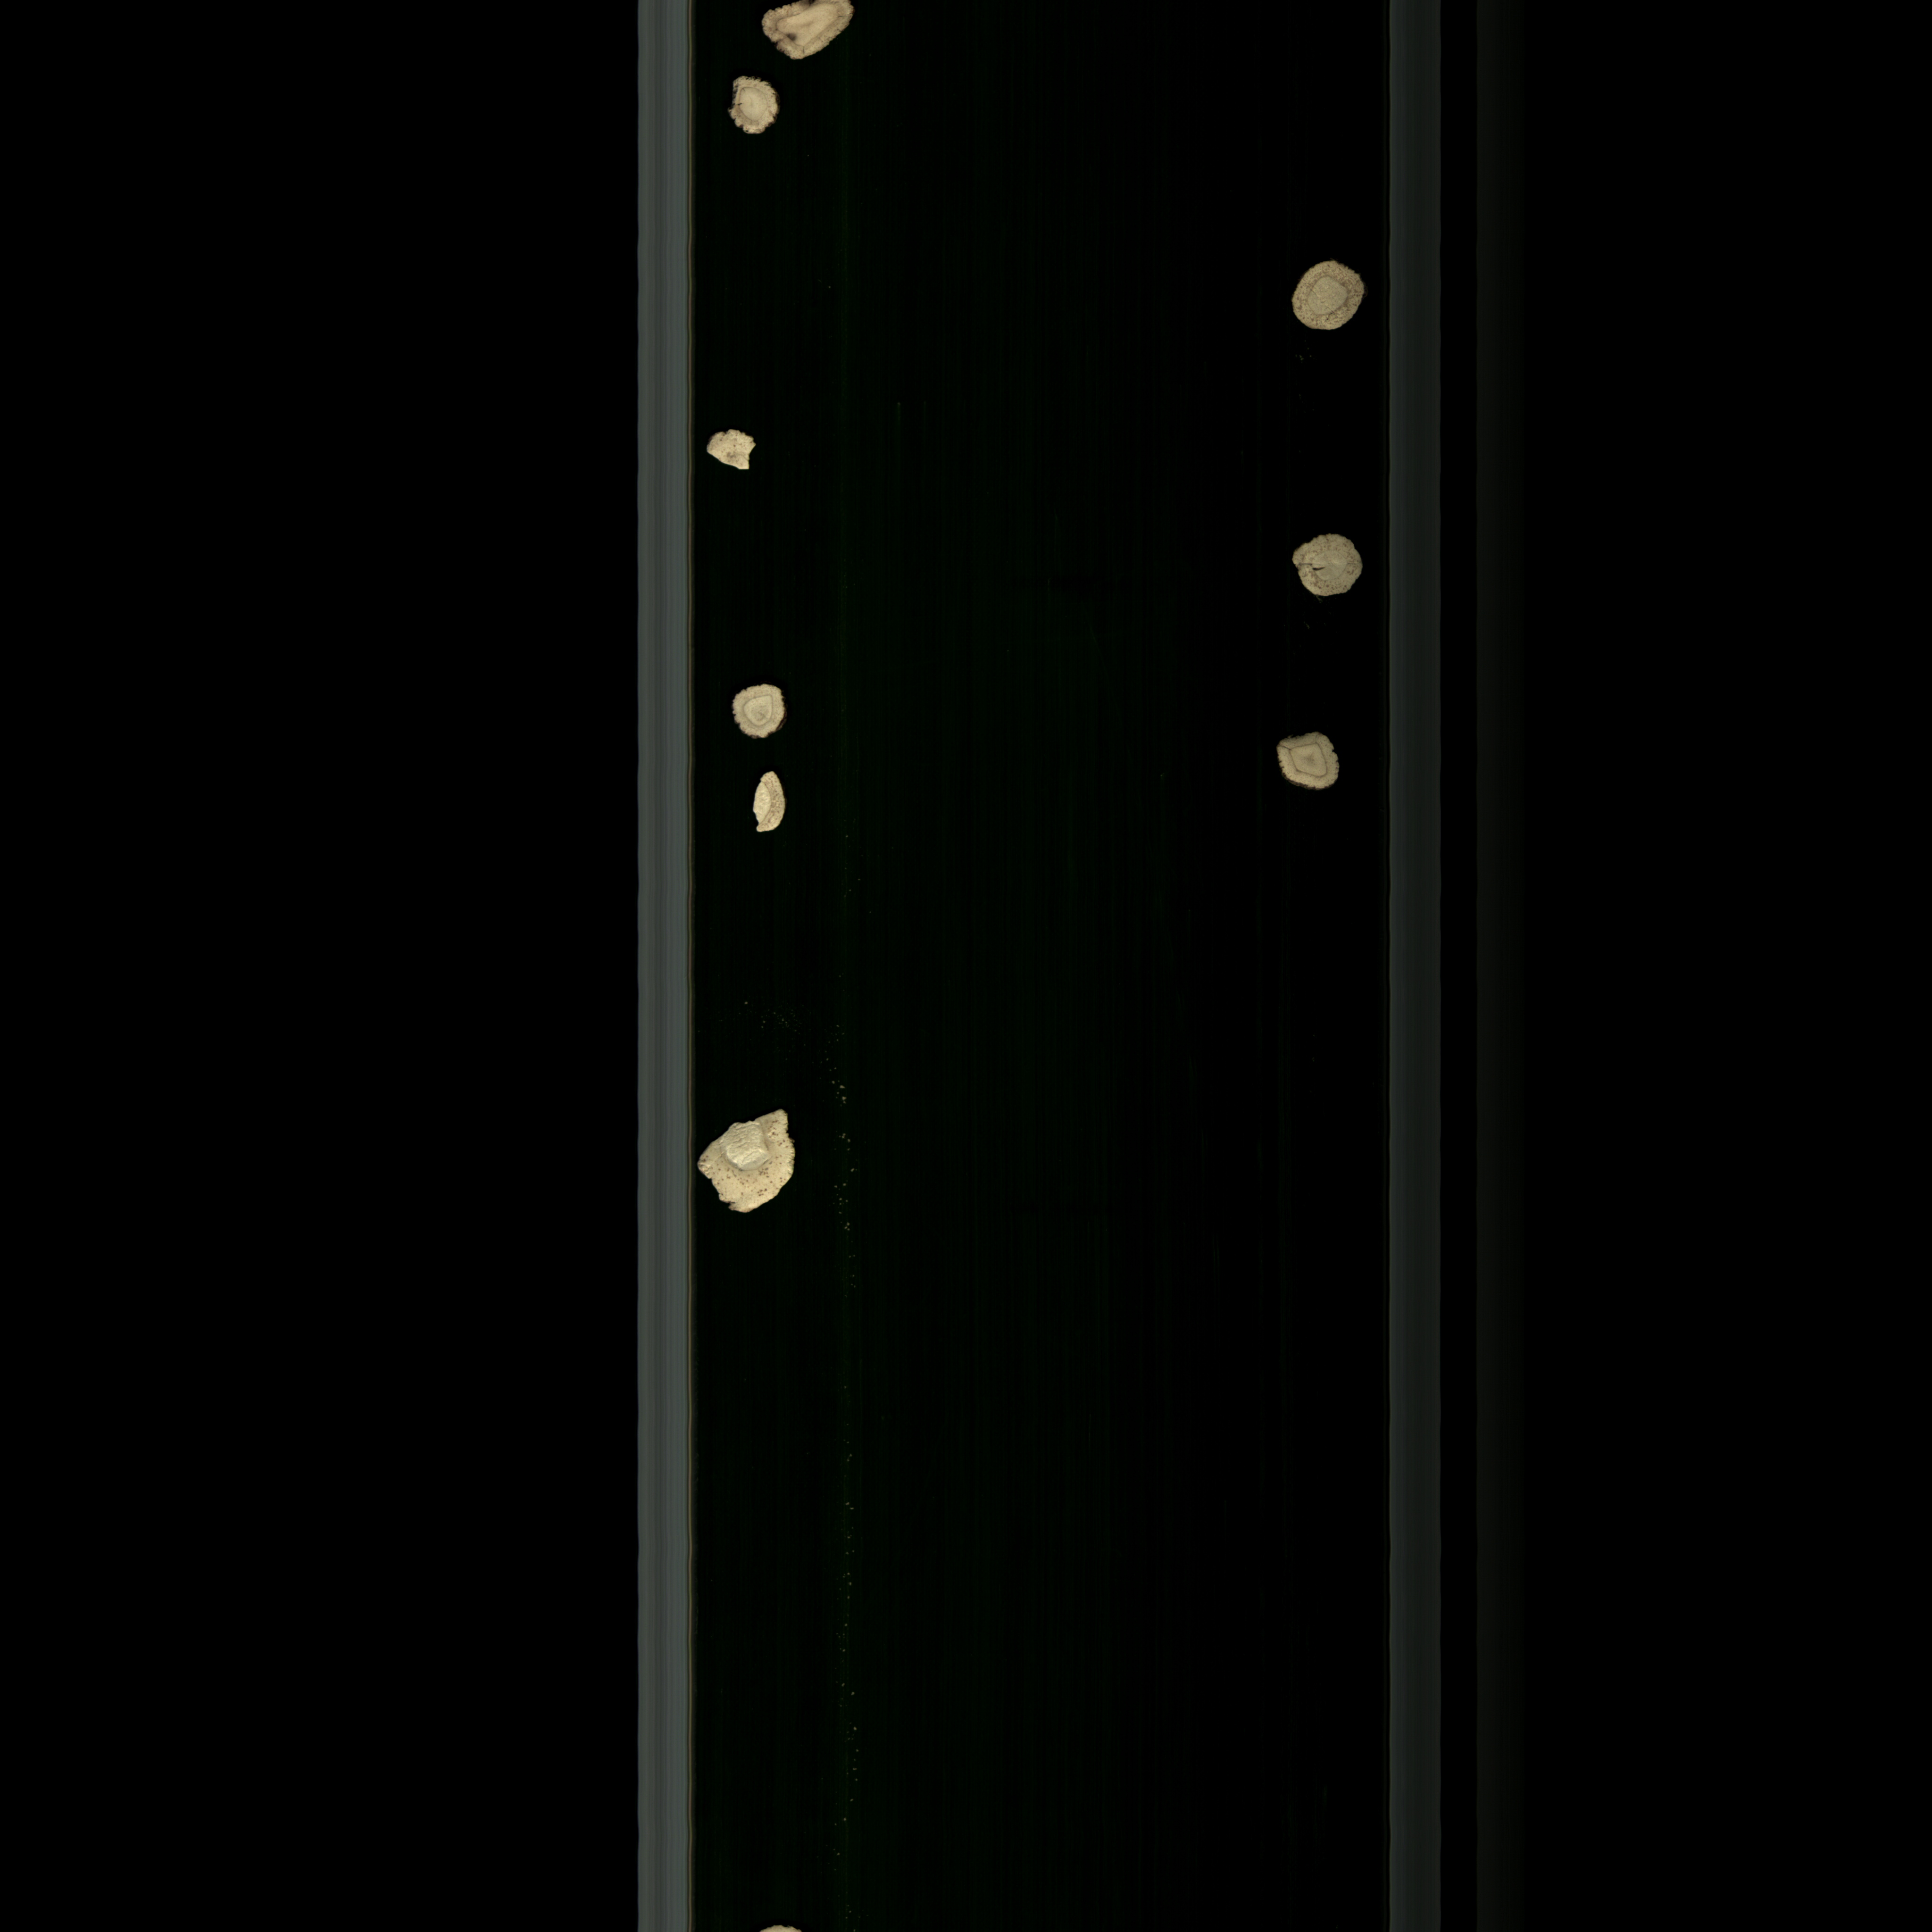debris: (695, 1102, 800, 1226), (745, 768, 794, 846)
distortion: (1254, 727, 1361, 805)
dreg: (697, 423, 775, 495)
hole: (1279, 527, 1382, 614)
moldy: (761, 0, 863, 65), (722, 69, 786, 147)
